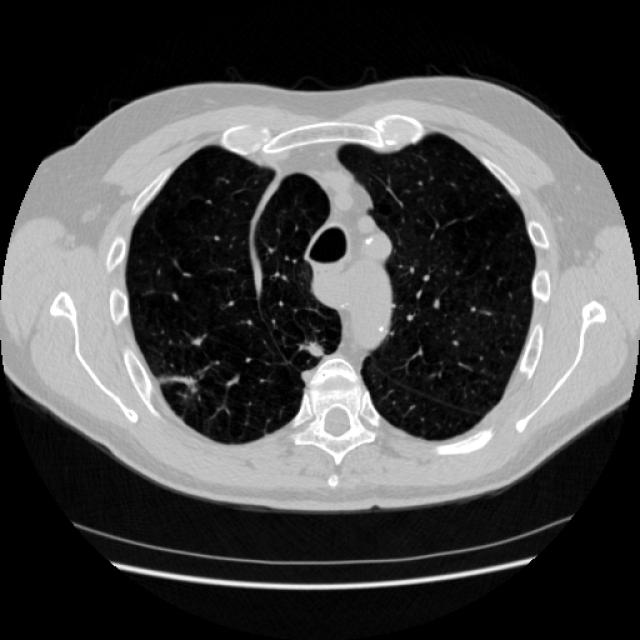nodule: (293, 326, 335, 369)
